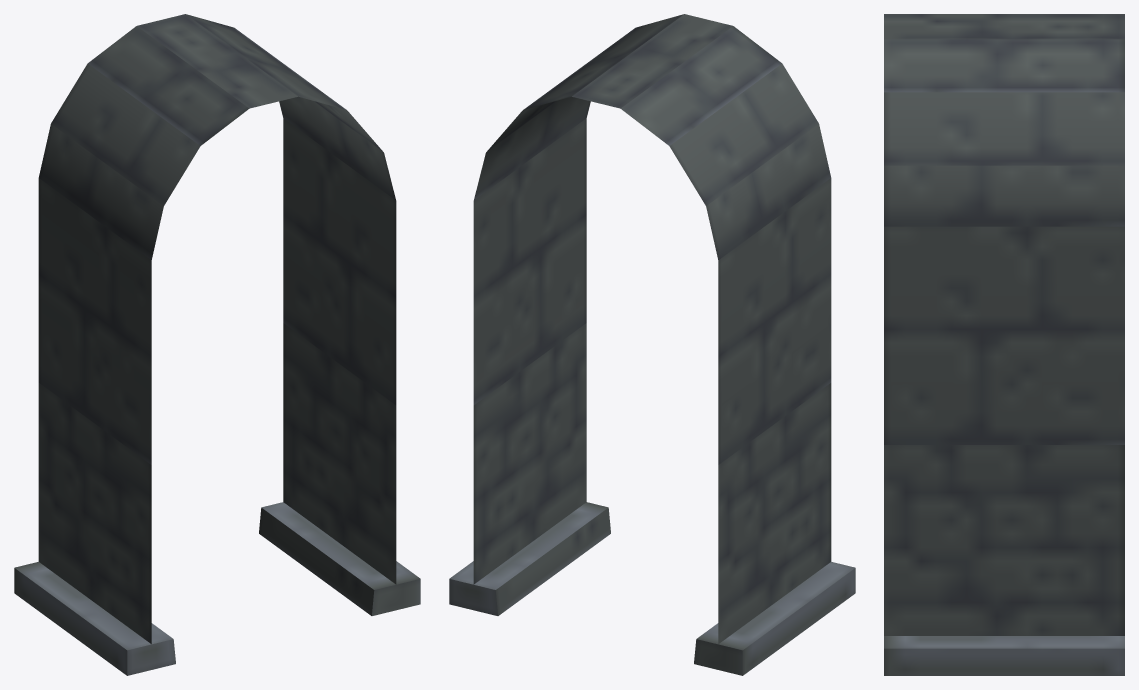
Rendered from arch_inside_small.fbx.
3 views of the same model, side by side, from view 1: azimuth 30°, elevation 25°; view 2: azimuth 150°, elevation 25°; view 3: azimuth 270°, elevation 25° (orthographic). The views are drawn at different scales.
Parts seen in each view (by area): view 1: arch_inside_small; view 2: arch_inside_small; view 3: arch_inside_small.
Boxes of the visible parts, x1,y1,x2,y2 form: arch_inside_small: [14, 14, 420, 675]; arch_inside_small: [449, 14, 855, 675]; arch_inside_small: [884, 14, 1124, 675].
Size of the model in its own units: 24 by 42 by 16.
